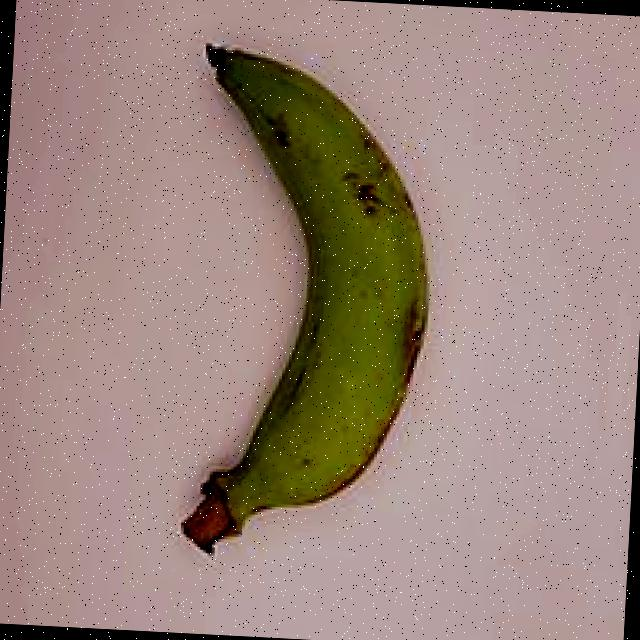Raw: (114, 21, 463, 576)
